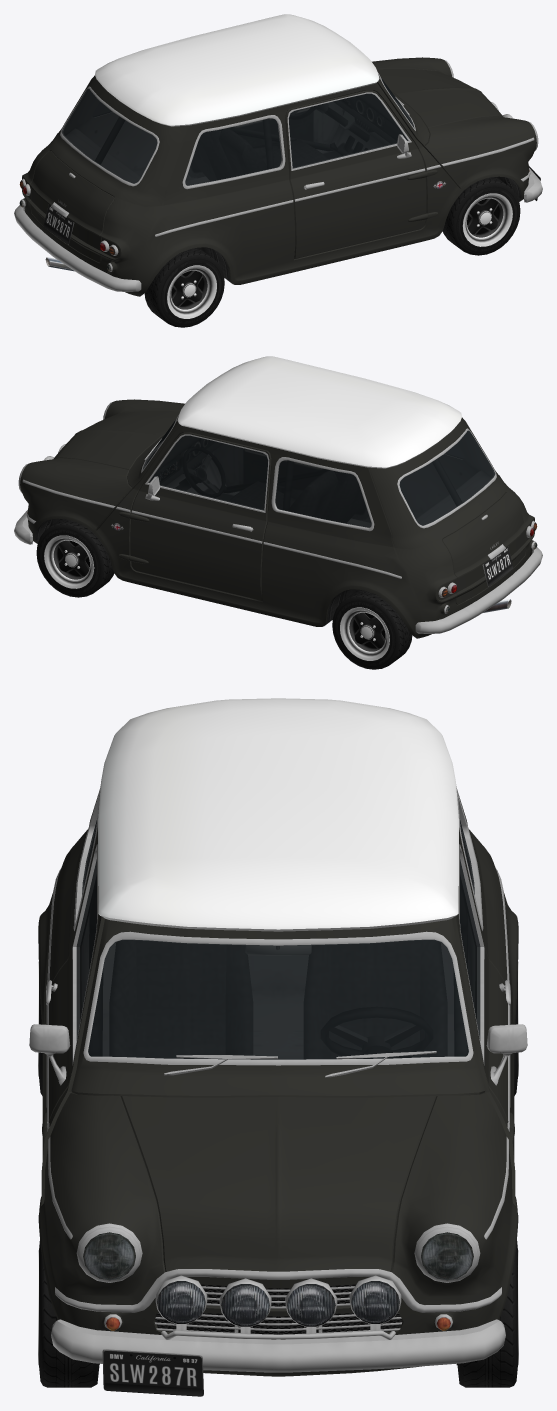
Rendered from lasley67.glb.
3 renders of one model, top to bottom at view 1: azimuth 30°, elevation 25°; view 2: azimuth 150°, elevation 25°; view 3: azimuth 270°, elevation 25°, orthographic. The views are drawn at different scales.
Parts seen in each view (by area): view 1: lasley67_Body_lasley67_Bodymat_0, lasley67_Roof_UCB_BOTTOM_0, lasley67_Interior_UCB_Interiors_1_0, lasley67_Bottom_UCB_BOTTOM_0, lasley67_Glass_Passenger_UCB_Lights_and_Glass_Transperent_0, lasley67_Window_rear_UCB_Lights_and_Glass_Transperent_0, lasley67_Trunk_door_lasley67_Bodymat_0, lasley67_Body_Glass_UCB_Lights_and_Glass_Transperent_0, lasley67_WheelStock_RR_RB1c_Tire_1k_0, lasley67_WheelStock_FR_RB1c_Tire_1k_0, lasley67_Hood_lasley67_Bodymat_0, lasley67_Bumper_Rear_UCB_BOTTOM_0 (+2 smaller); view 2: lasley67_Body_lasley67_Bodymat_0, lasley67_Roof_UCB_BOTTOM_0, lasley67_Interior_UCB_Interiors_1_0, lasley67_Bottom_UCB_BOTTOM_0, lasley67_Glass_Driver_UCB_Lights_and_Glass_Transperent_0, lasley67_Window_rear_UCB_Lights_and_Glass_Transperent_0, lasley67_Trunk_door_lasley67_Bodymat_0, lasley67_Body_Glass_UCB_Lights_and_Glass_Transperent_0, lasley67_WheelStock_RL_RB1c_Tire_1k_0, lasley67_WheelStock_FL_RB1c_Tire_1k_0, lasley67_Hood_lasley67_Bodymat_0, lasley67_Bumper_Rear_UCB_BOTTOM_0 (+3 smaller); view 3: lasley67_Roof_UCB_BOTTOM_0, lasley67_Body_lasley67_Bodymat_0, lasley67_Hood_lasley67_Bodymat_0, lasley67_Window_front_UCB_Lights_and_Glass_Transperent_0, lasley67_Interior_UCB_Interiors_1_0, lasley67_Bottom_UCB_BOTTOM_0, lasley67_Bumper_Front_UCB_BOTTOM_0, lasley67_Bumper_Headlights_UCB_Lights_and_Glass_0, lasley67_Numberplate_front_Numberplates_Misk_U_0, lasley67_Headlight_Glass_UCB_Lights_and_Glass_Transperent_0, lasley67_Headlights_UCB_Lights_and_Glass_0, lasley67_WheelStock_FL_RB1c_Tire_1k_0 (+4 smaller).
Part boxes in pixels (x1,y1,x2,y2): lasley67_Body_lasley67_Bodymat_0: (22,57,536,296); lasley67_Roof_UCB_BOTTOM_0: (95,14,379,126); lasley67_Interior_UCB_Interiors_1_0: (64,89,409,184); lasley67_Bottom_UCB_BOTTOM_0: (20,60,538,282); lasley67_Glass_Passenger_UCB_Lights_and_Glass_Transperent_0: (288,93,408,168); lasley67_Window_rear_UCB_Lights_and_Glass_Transperent_0: (61,88,157,183); lasley67_Trunk_door_lasley67_Bodymat_0: (29,151,114,262); lasley67_Body_Glass_UCB_Lights_and_Glass_Transperent_0: (93,102,281,185); lasley67_WheelStock_RR_RB1c_Tire_1k_0: (144,247,224,327); lasley67_WheelStock_FR_RB1c_Tire_1k_0: (442,177,520,255); lasley67_Hood_lasley67_Bodymat_0: (376,69,503,128); lasley67_Bumper_Rear_UCB_BOTTOM_0: (14,205,141,291); lasley67_Body_lasley67_Bodymat_0: (20,399,534,638); lasley67_Roof_UCB_BOTTOM_0: (177,356,461,468); lasley67_Interior_UCB_Interiors_1_0: (147,431,492,526); lasley67_Bottom_UCB_BOTTOM_0: (18,402,536,624); lasley67_Glass_Driver_UCB_Lights_and_Glass_Transperent_0: (148,435,268,510); lasley67_Window_rear_UCB_Lights_and_Glass_Transperent_0: (399,430,495,525); lasley67_Trunk_door_lasley67_Bodymat_0: (442,493,527,604); lasley67_Body_Glass_UCB_Lights_and_Glass_Transperent_0: (275,444,463,527); lasley67_WheelStock_RL_RB1c_Tire_1k_0: (332,589,412,669); lasley67_WheelStock_FL_RB1c_Tire_1k_0: (36,519,114,597); lasley67_Hood_lasley67_Bodymat_0: (53,411,180,470); lasley67_Bumper_Rear_UCB_BOTTOM_0: (415,547,542,633); lasley67_Roof_UCB_BOTTOM_0: (98,698,458,931); lasley67_Body_lasley67_Bodymat_0: (38,789,518,1376); lasley67_Hood_lasley67_Bodymat_0: (120,1096,436,1271); lasley67_Window_front_UCB_Lights_and_Glass_Transperent_0: (88,939,468,1059); lasley67_Interior_UCB_Interiors_1_0: (82,831,474,1058); lasley67_Bottom_UCB_BOTTOM_0: (29,786,527,1334); lasley67_Bumper_Front_UCB_BOTTOM_0: (51,1275,505,1372); lasley67_Bumper_Headlights_UCB_Lights_and_Glass_0: (157,1281,399,1326); lasley67_Numberplate_front_Numberplates_Misk_U_0: (102,1349,203,1396); lasley67_Headlight_Glass_UCB_Lights_and_Glass_Transperent_0: (83,1232,473,1280); lasley67_Headlights_UCB_Lights_and_Glass_0: (83,1233,473,1279); lasley67_WheelStock_FL_RB1c_Tire_1k_0: (456,1240,518,1387).
Size of the model in its own units: 3.12 by 1.32 by 1.47.
8 materials, 7 textured.
